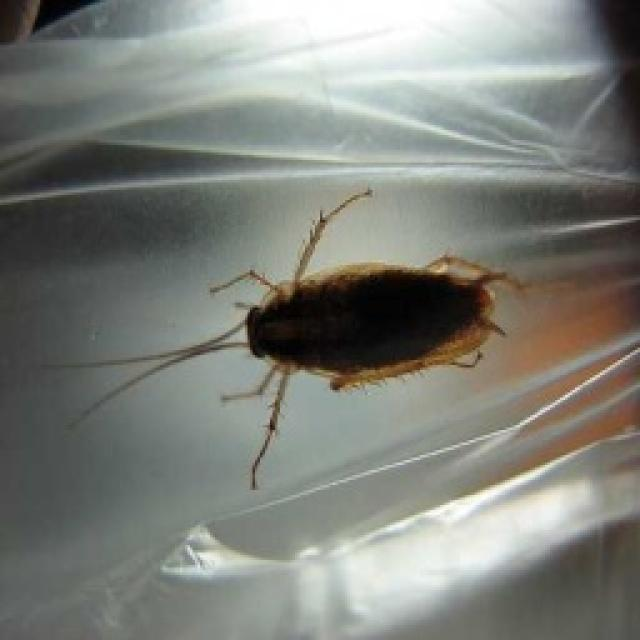cockroach: (41, 182, 532, 494)
